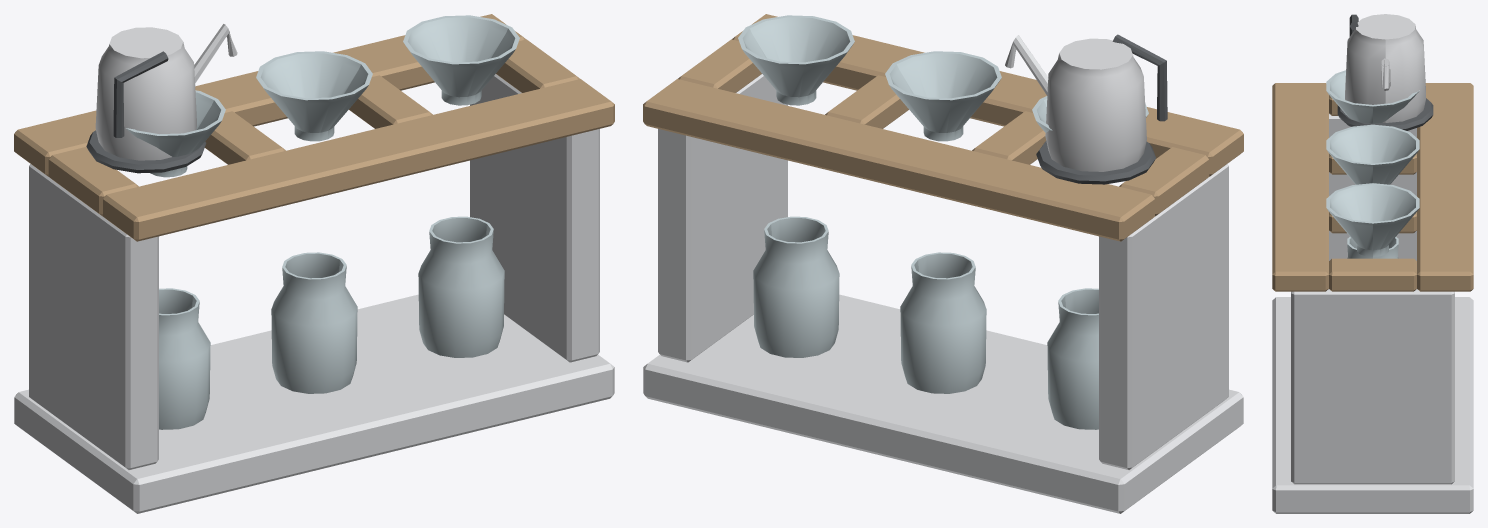
File: bakery-and-cafe-pour-over-brew-bar-23b6a94f__22117.glb
3 views of the same model, side by side, from view 1: azimuth 30°, elevation 25°; view 2: azimuth 150°, elevation 25°; view 3: azimuth 270°, elevation 25° (orthographic). The views are drawn at different scales.
Visible parts, largest first — view 1: pour-over-brew-bar; view 2: pour-over-brew-bar; view 3: pour-over-brew-bar.
Part boxes in pixels (x1,y1,x2,y2): pour-over-brew-bar: (14,14,614,513); pour-over-brew-bar: (643,14,1243,513); pour-over-brew-bar: (1272,14,1473,513).
Bounding box in the file's own units: 0.72 × 0.5839 × 0.32.
